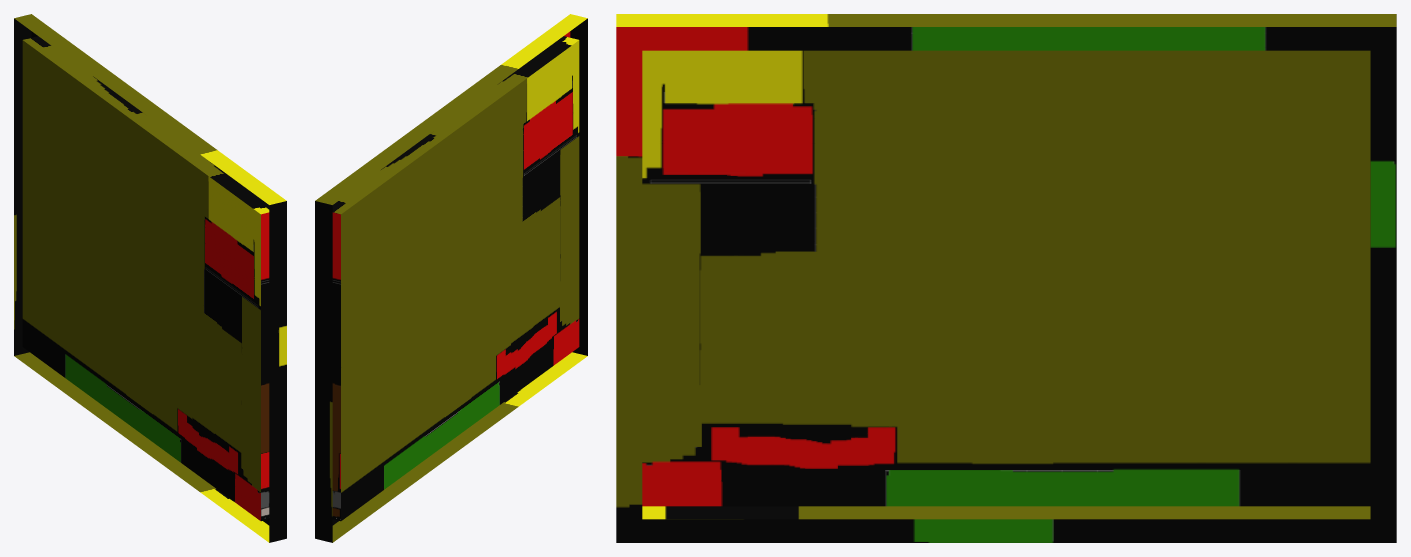
Rendered from painting.fbx.
The picture shows the model from 3 angles, left to right: view 1: azimuth 30°, elevation 25°; view 2: azimuth 150°, elevation 25°; view 3: azimuth 270°, elevation 25°; orthographic projection. The views are drawn at different scales.
Visible parts, largest first — view 1: painting; view 2: painting; view 3: painting.
Boxes of the visible parts, x1,y1,x2,y2 form: painting: (14,14,286,542); painting: (315,14,587,542); painting: (616,14,1396,542).
Bounding box in the file's own units: 0.1673 × 3.07 × 4.21.
